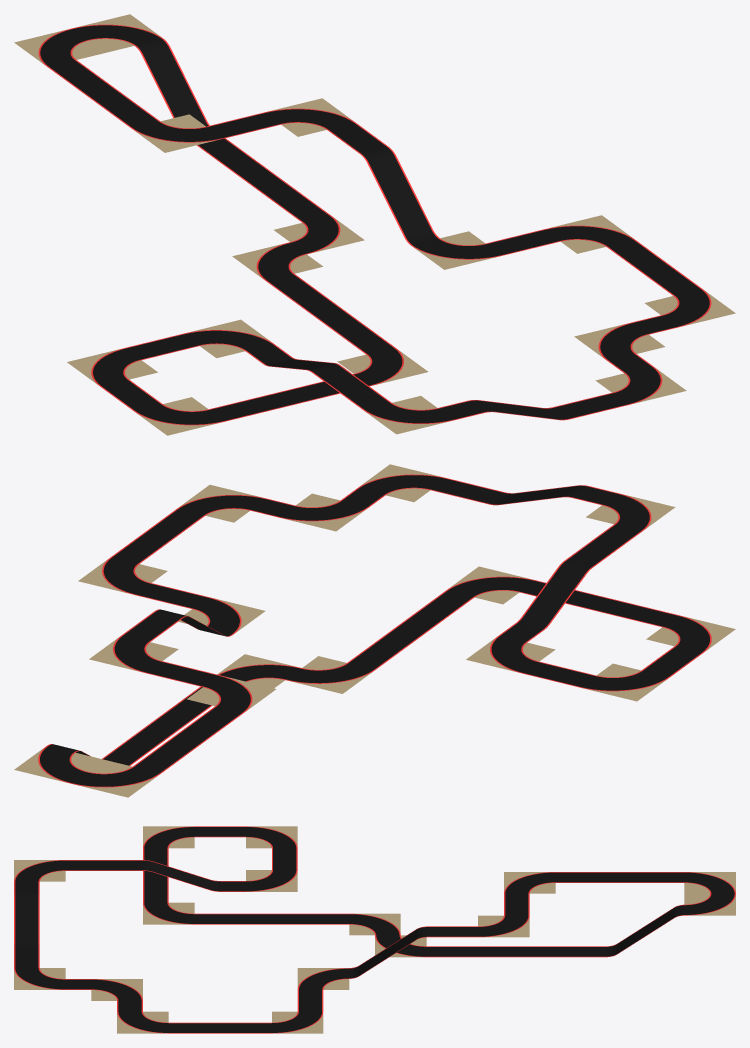
File: Teststrecke.fbx
3 renders of one model, top to bottom at view 1: azimuth 30°, elevation 25°; view 2: azimuth 150°, elevation 25°; view 3: azimuth 270°, elevation 25°, orthographic. The views are drawn at different scales.
Visible parts, largest first — view 1: Streckenmodul - Gerade030; view 2: Streckenmodul - Gerade030; view 3: Streckenmodul - Gerade030.
Part boxes in pixels (bbox=[...]): Streckenmodul - Gerade030: bbox=[14, 14, 735, 435]; Streckenmodul - Gerade030: bbox=[14, 464, 735, 797]; Streckenmodul - Gerade030: bbox=[14, 826, 735, 1033].
Bounding box in the file's own units: 7480 × 702 × 11024.
